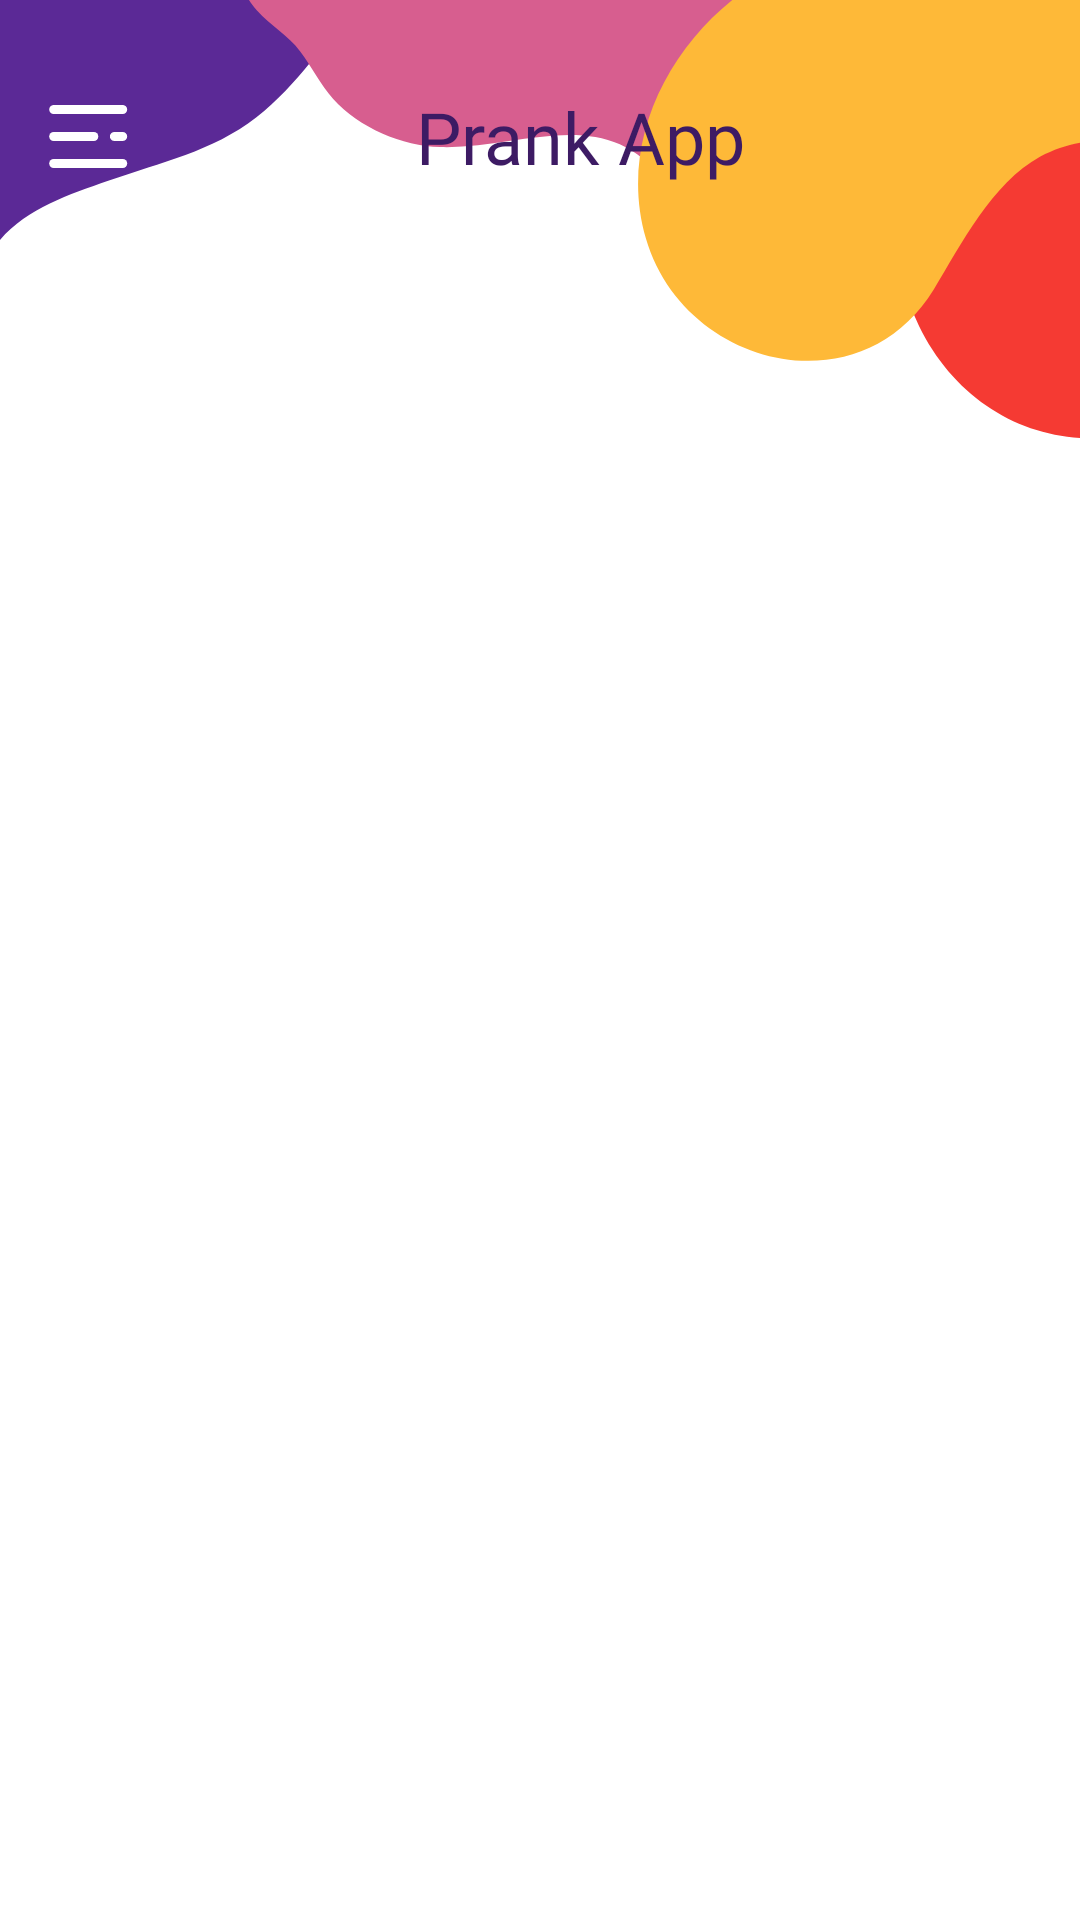

Point at icon controls on the screen. Image size 1080px×1920px, points as point (x, y).
drawer: point (88, 136)
